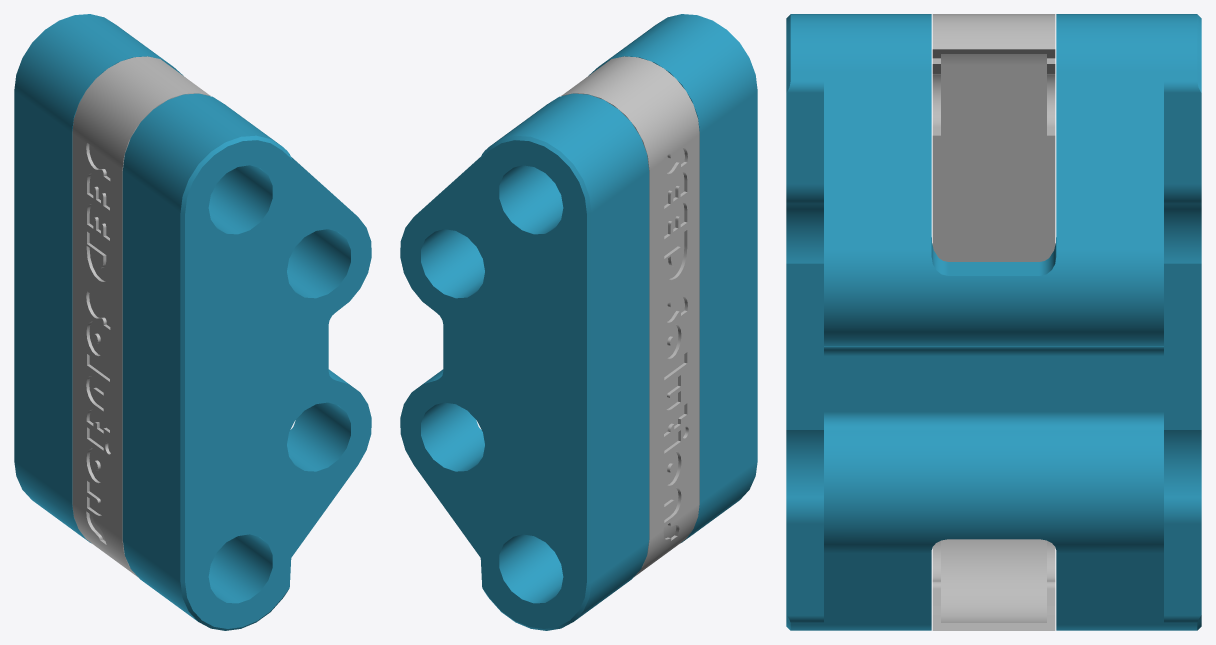
File: leg_knee_link.dae
3 views of the same model, side by side, from view 1: azimuth 30°, elevation 25°; view 2: azimuth 150°, elevation 25°; view 3: azimuth 270°, elevation 25° (orthographic). The views are drawn at different scales.
Parts seen in each view (by area): view 1: FBXASC227FBXASC130FBXASC189FBXASC227FBXASC131FBXASC170FBXASC (×2); view 2: FBXASC227FBXASC130FBXASC189FBXASC227FBXASC131FBXASC170FBXASC (×2); view 3: FBXASC227FBXASC130FBXASC189FBXASC227FBXASC131FBXASC170FBXASC (×2).
Boxes of the visible parts, x1,y1,x2,y2 form: FBXASC227FBXASC130FBXASC189FBXASC227FBXASC131FBXASC170FBXASC (×2): (14,14,371,630); FBXASC227FBXASC130FBXASC189FBXASC227FBXASC131FBXASC170FBXASC (×2): (400,14,757,630); FBXASC227FBXASC130FBXASC189FBXASC227FBXASC131FBXASC170FBXASC (×2): (786,14,1201,630).
Bounding box in the file's own units: 0.0697 × 0.1 × 0.16.
